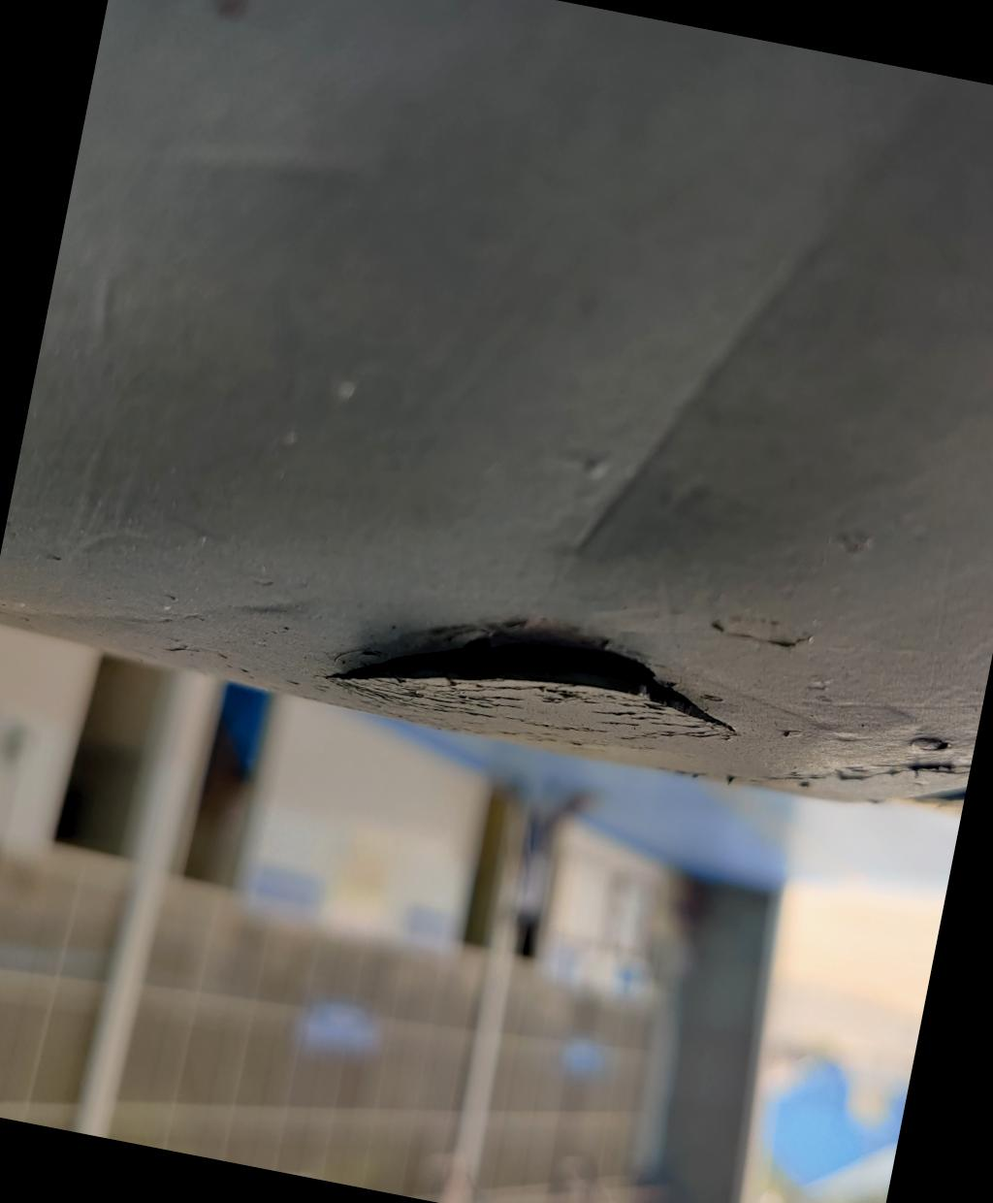crack: (288, 543, 772, 825)
